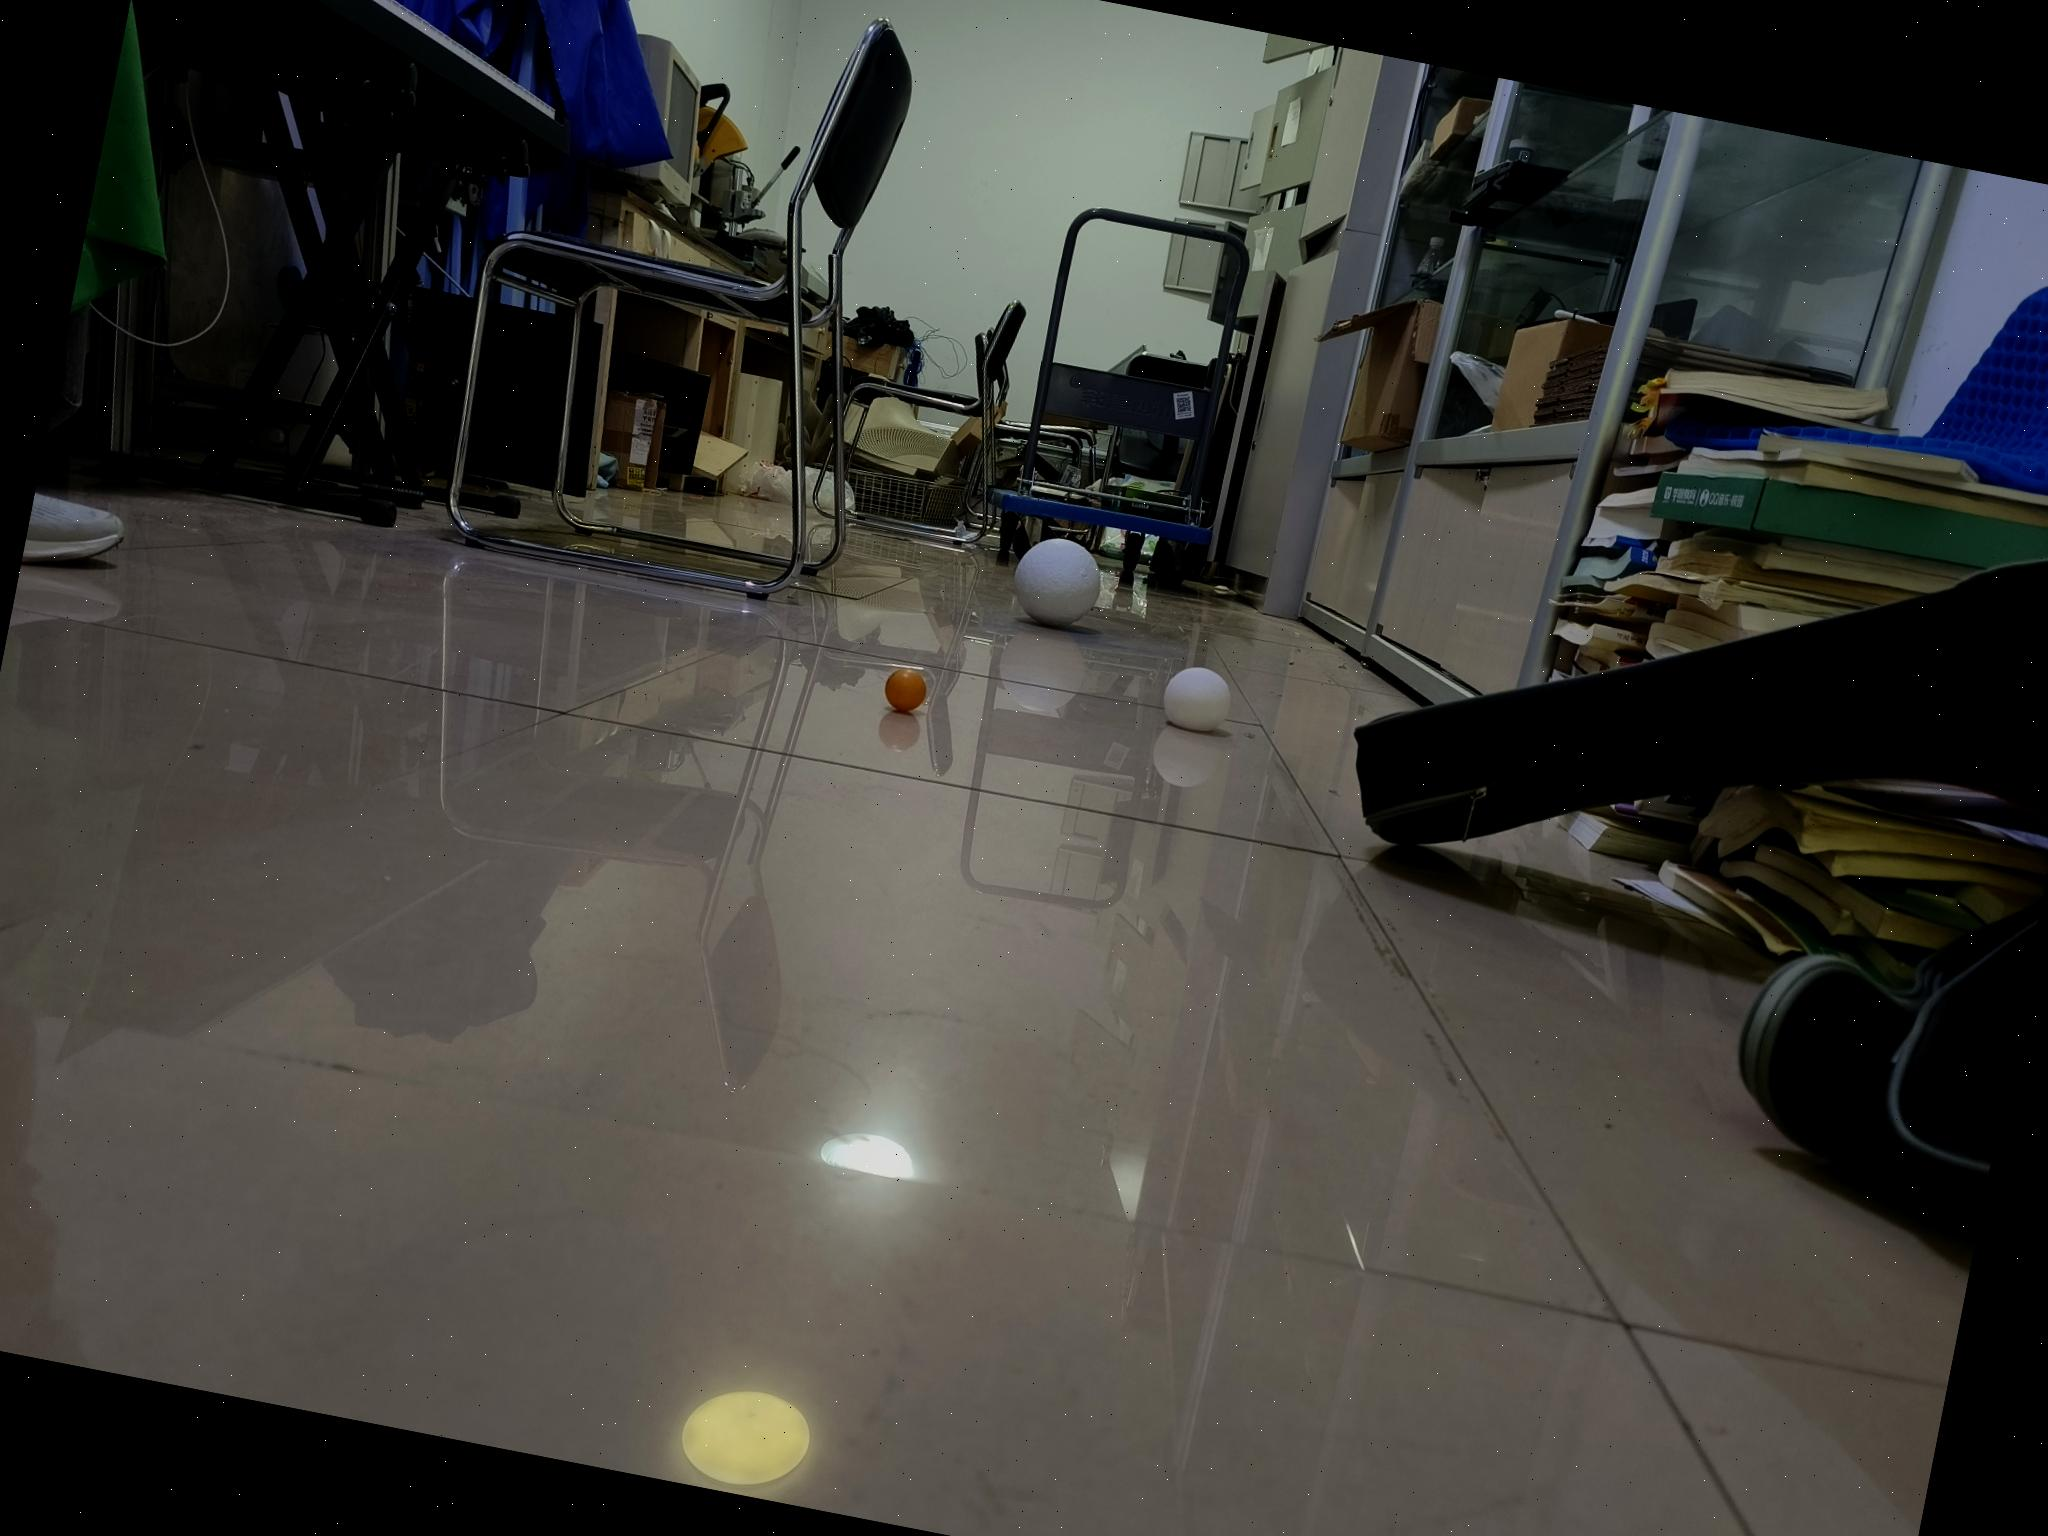ball: (880, 666, 929, 715)
